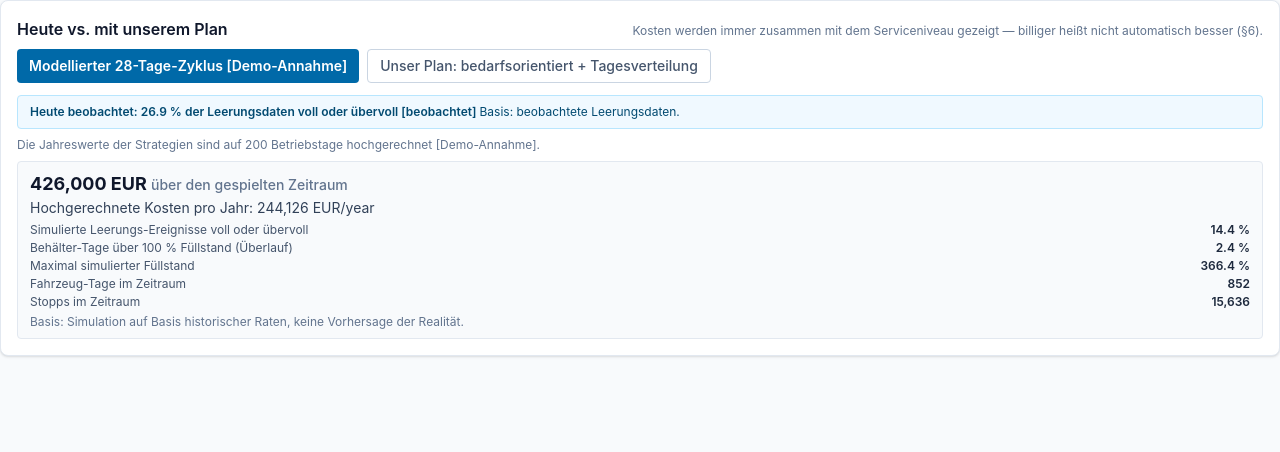
TodayPlanToggle — cost + service together (§6) › renders German strings with parity (anchor + flags)
Click the button with test id "toggle-plan".
click(539, 66)  # box [367,49,711,83]
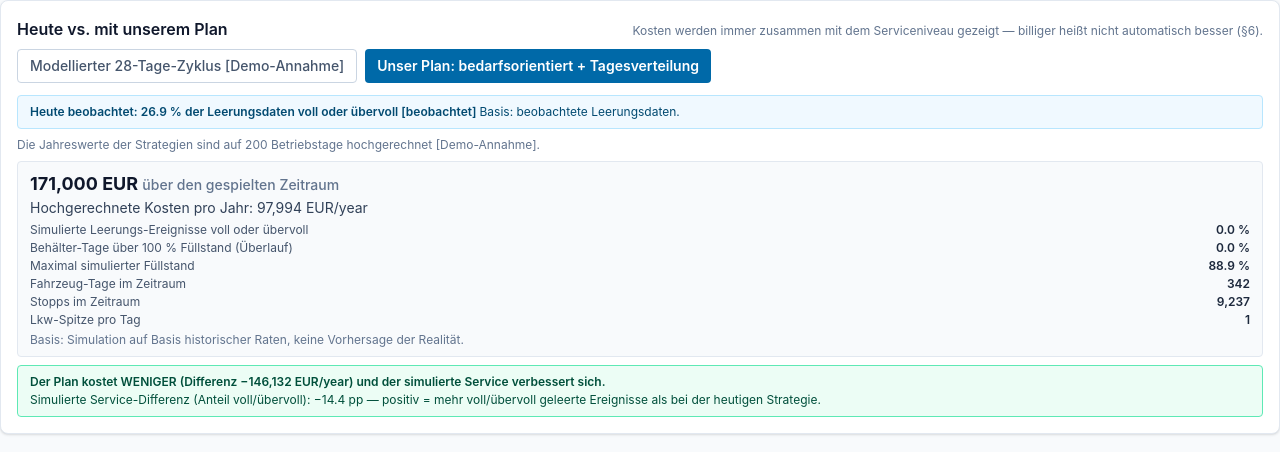
Expected: the element with test id "toggle-tradeoff" shows "WENIGER", [30,374,606,389]
Expected: the element with test id "toggle-tradeoff" shows "verbessert sich", [30,374,606,389]
